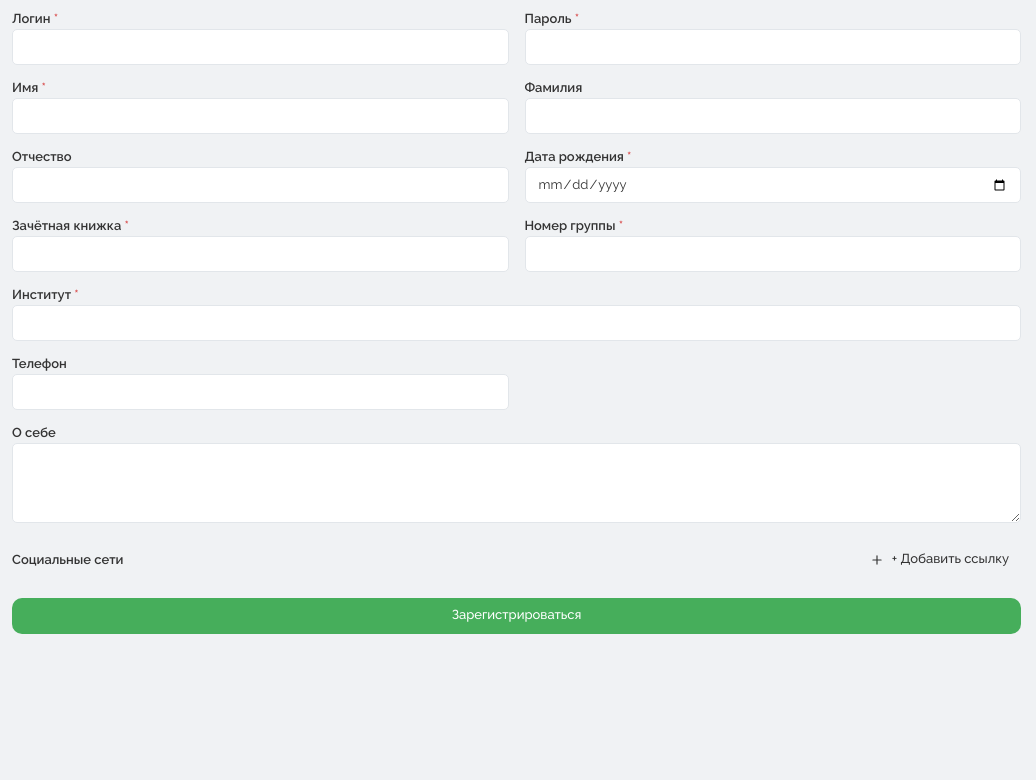
Test: LoginForm behavior › blocks register submit and shows validation errors for missing required fields
Click the button "Зарегистрироваться": (516, 616) [12, 598, 1021, 634]
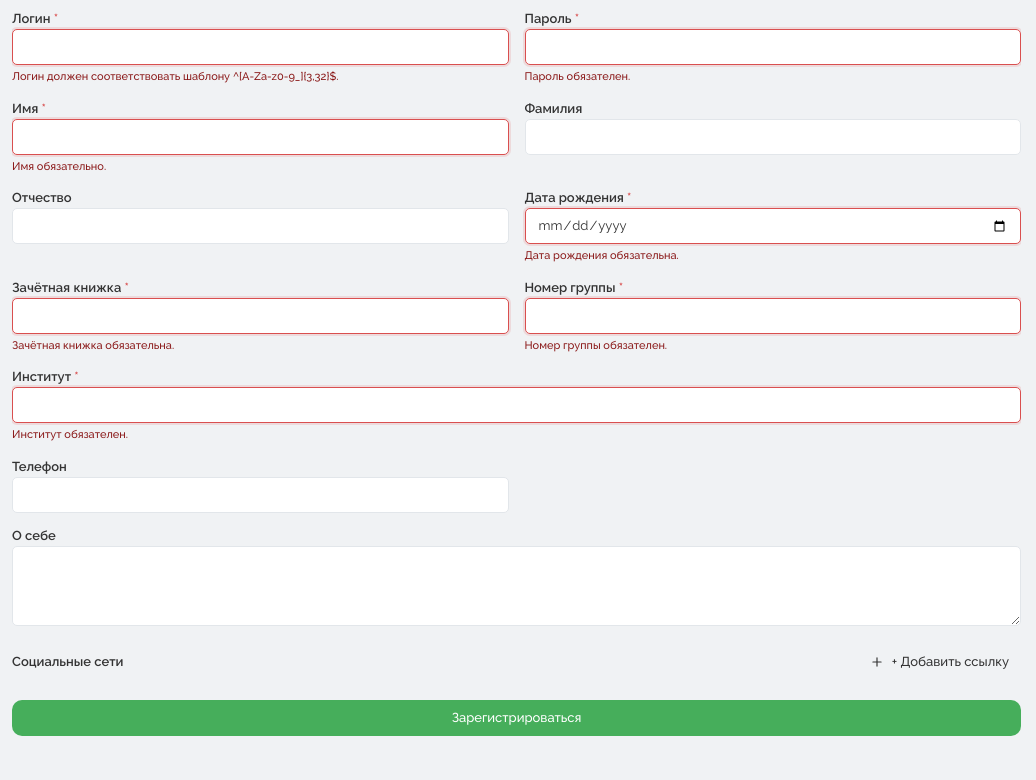
Now the text "Пароль обязателен." is shown, box [524, 70, 630, 83]
Now the text "Имя обязательно." is shown, box [12, 160, 106, 172]
